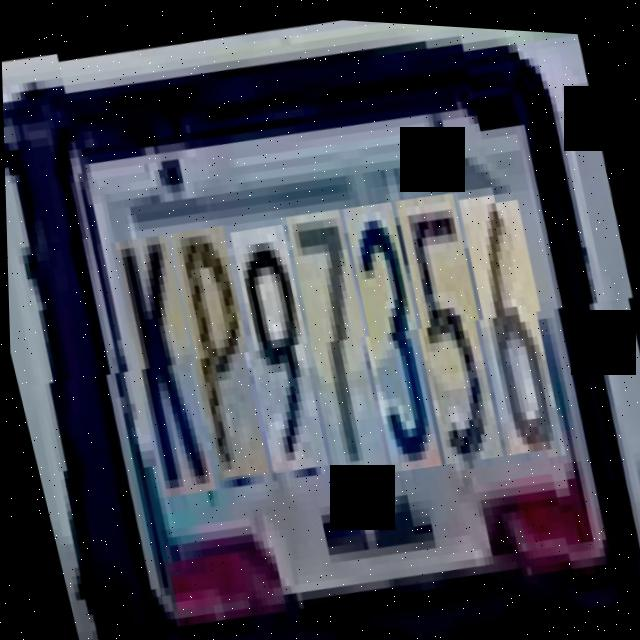3: (336, 193, 452, 468)
5: (389, 182, 513, 460)
6: (452, 180, 574, 450)
7: (279, 201, 397, 470)
9: (224, 218, 339, 470)
K: (108, 229, 226, 497)
P: (165, 219, 281, 480)
